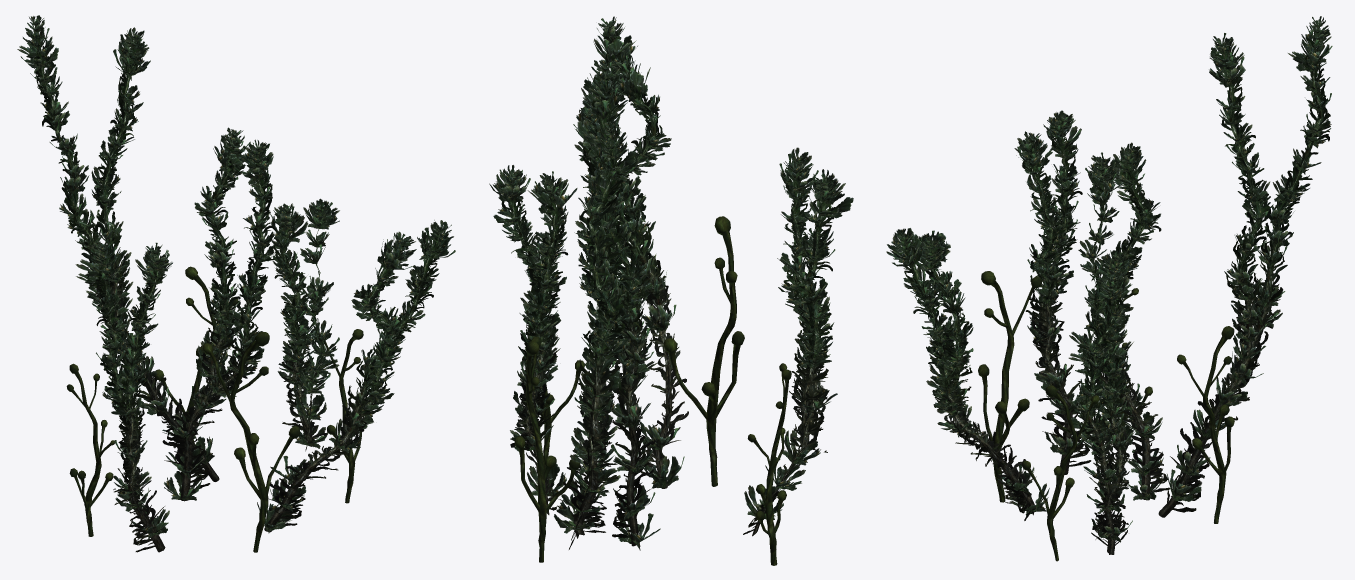
The model's file is pond_weed.glb.
3 renders of one model, left to right at view 1: azimuth 30°, elevation 25°; view 2: azimuth 150°, elevation 25°; view 3: azimuth 270°, elevation 25°, orthographic. The views are drawn at different scales.
Visible parts, largest first — view 1: LOD0; view 2: LOD0; view 3: LOD0.
Boxes of the visible parts, x1,y1,x2,y2 form: LOD0: [17, 15, 455, 552]; LOD0: [489, 16, 853, 565]; LOD0: [886, 16, 1332, 561].
Bounding box in the file's own units: 0.0144 × 0.0212 × 0.0185.
Materials: 3 (3 with a texture image).
